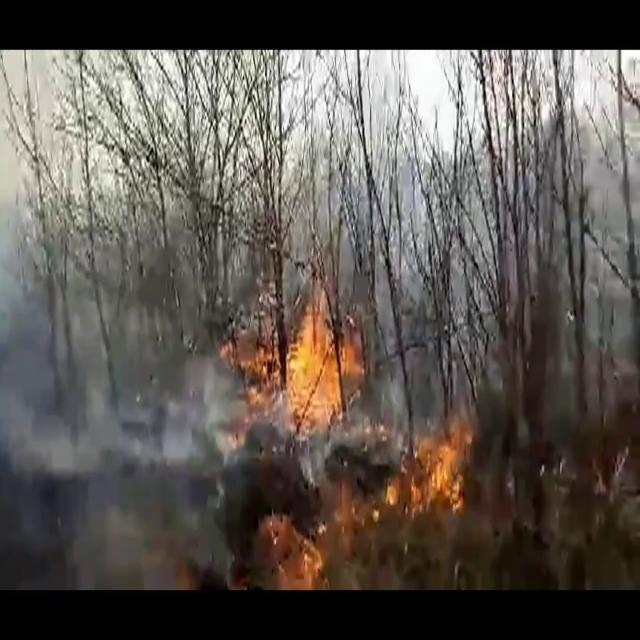Fire: (225, 284, 369, 442), (394, 404, 482, 522)
Smoke: (0, 175, 248, 506)
